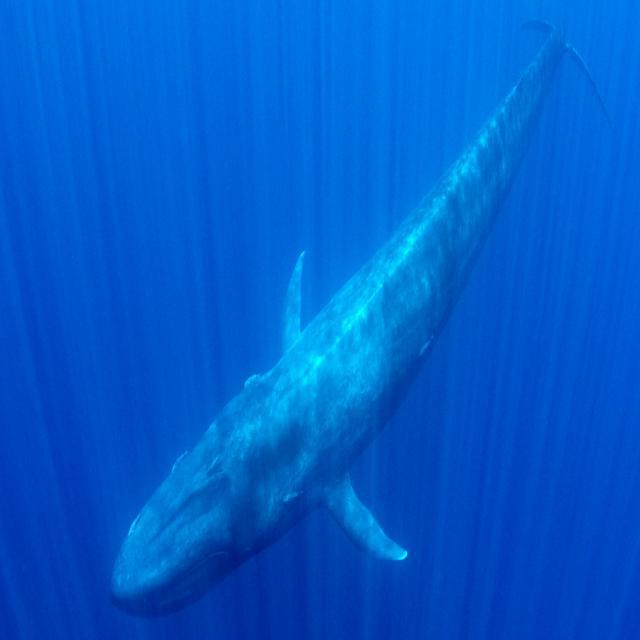blue_whale: (86, 25, 590, 630)
